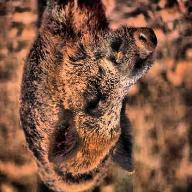boar: (20, 0, 157, 186)
